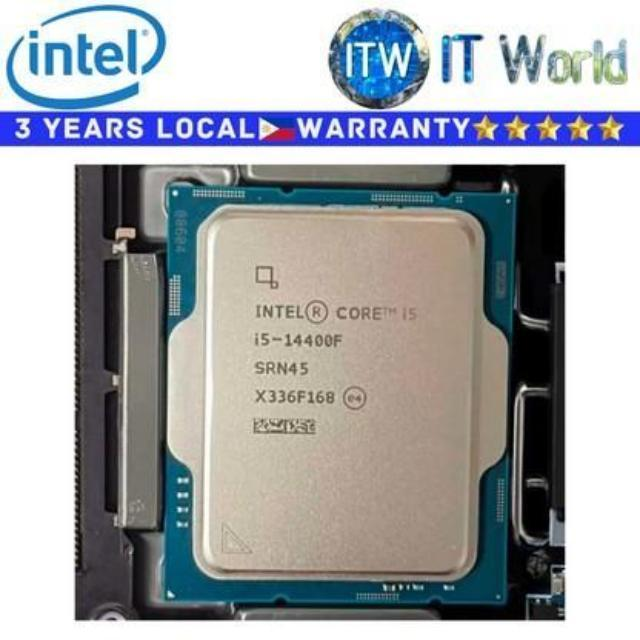CPU: (159, 182, 512, 598)
